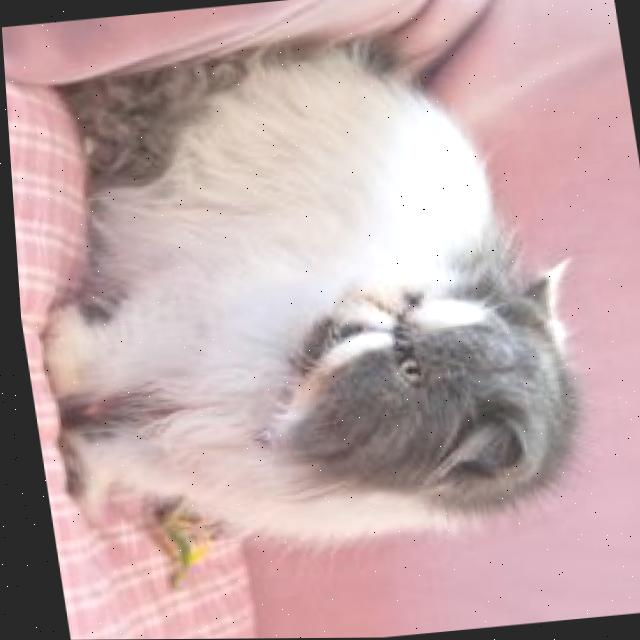Persian: (1, 19, 608, 576)
